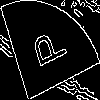P: (25, 24, 68, 74)
